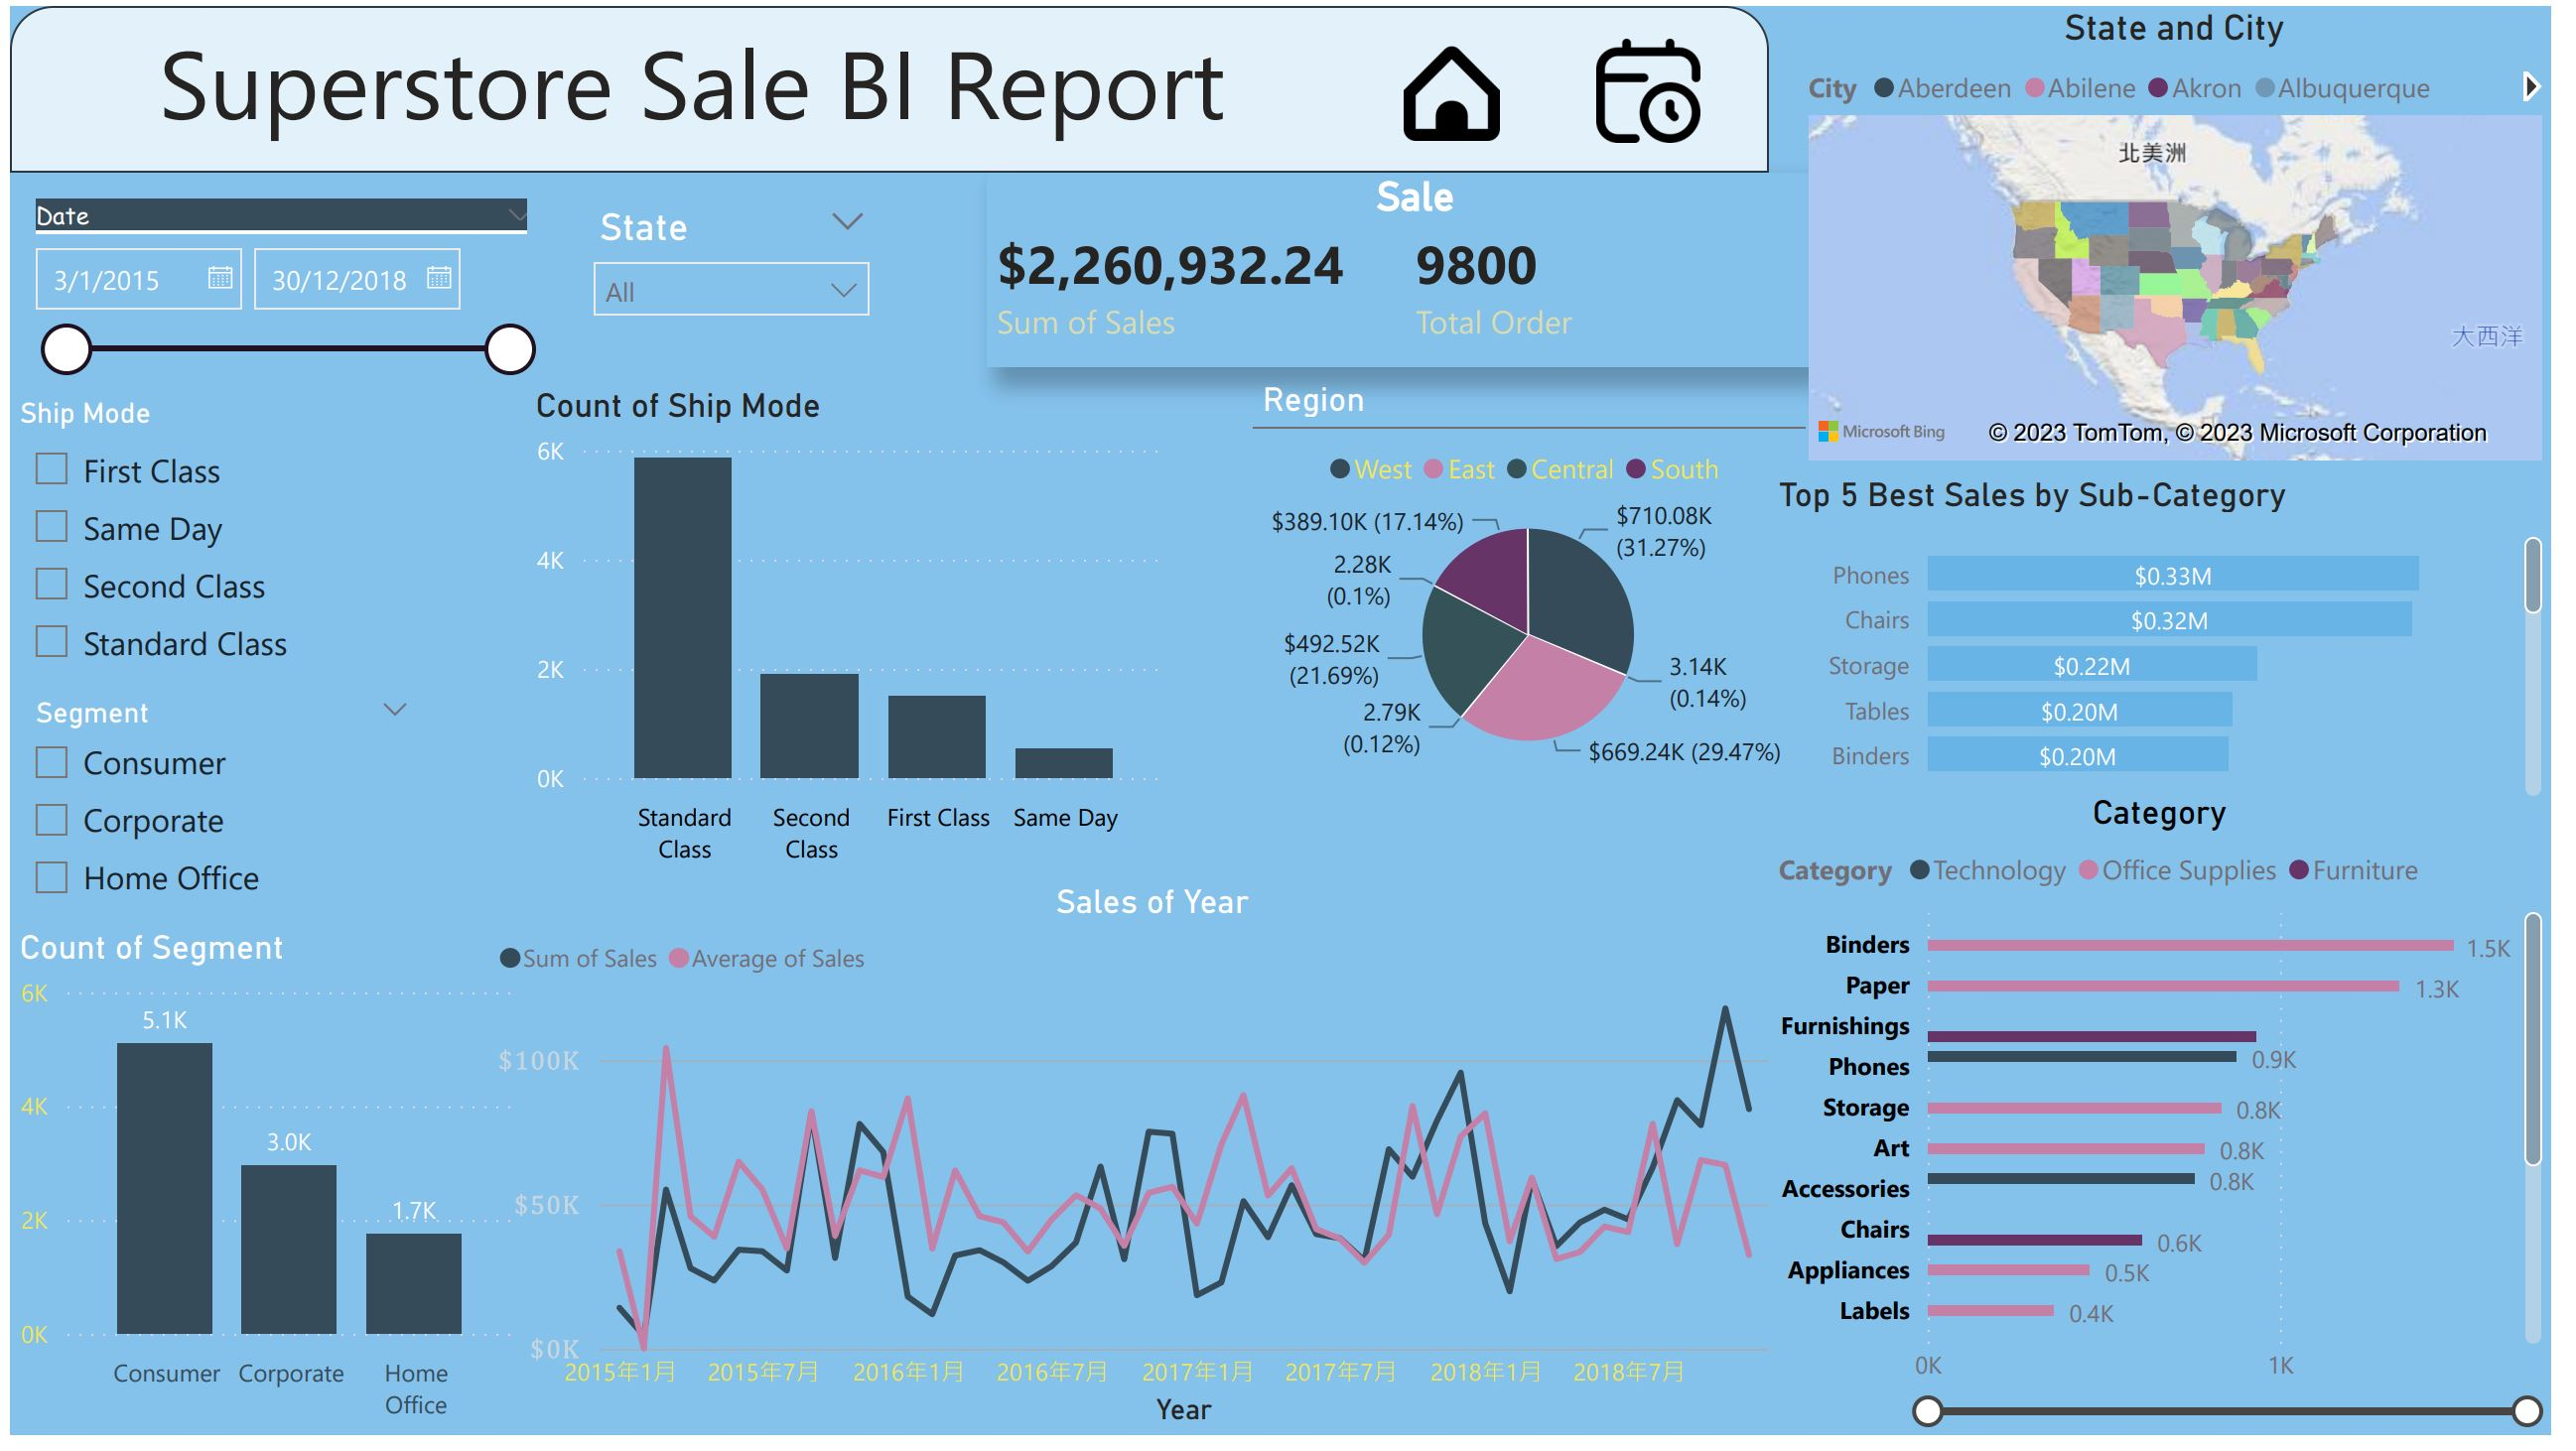

The page's visual inventory and layout, read from the dashboard file:
{"tool":"powerbi","page":{"name":"Sale","canvas":[1280,720],"ordinal":0},"visuals":[{"type":"multiRowCard","title":"Sale","fields":{"Values":["Sum(superstore_final_dataset.Sales)","CountNonNull(superstore_final_dataset.Sales)","Avg(superstore_final_dataset.Sales)"]},"box":[260,92.1,684.3,88.6],"z":1000},{"type":"image","box":[640,0,125.9,83.9],"z":2000},{"type":"slicer","title":"Year","fields":{"Values":["superstore_final_dataset.Order_Date"]},"box":[0,92.1,234.3,111.9],"z":3000},{"type":"slicer","title":"Ship Mode","fields":{"Values":["superstore_final_dataset.Ship_Mode"]},"box":[0,197,234.3,145.7],"z":4000},{"type":"slicer","title":"Segment","fields":{"Values":["superstore_final_dataset.Segment"]},"box":[0,342.7,213.3,121.2],"z":5000},{"type":"lineChart","title":"Sales of Year ","fields":{"Category":["superstore_final_dataset.Order_Date.Variation.Date Hierarchy.Year","superstore_final_dataset.Order_Date.Variation.Date Hierarchy.Month"],"Y":["Sum(superstore_final_dataset.Sales)"],"Y2":["Avg(superstore_final_dataset.Sales)"]},"box":[241.2,441.2,668.8,278.8],"z":6000},{"type":"columnChart","title":"Count of Ship Mode ","fields":{"Category":["superstore_final_dataset.Ship_Mode"],"Y":["CountNonNull(superstore_final_dataset.Ship_Mode)"]},"box":[260,180,327.5,248.8],"z":8000},{"type":"columnChart","title":"Count of Segment ","fields":{"Category":["superstore_final_dataset.Segment"],"Y":["CountNonNull(superstore_final_dataset.Segment)"]},"box":[0,464,260,256.5],"z":9000},{"type":"clusteredBarChart","title":" Category","fields":{"Category":["superstore_final_dataset.Sub_Category"],"Series":["superstore_final_dataset.Category"],"Y":["CountNonNull(superstore_final_dataset.Category)"]},"box":[886.2,396.2,393.8,323],"z":10000},{"type":"clusteredBarChart","title":"Top 5 Best Sales by Sub-Category","fields":{"Category":["superstore_final_dataset.Sub_Category"],"Y":["Sum(superstore_final_dataset.Sales)"]},"box":[886.2,236.2,393.8,166.2],"z":11000},{"type":"image","title":"Sale","box":[1178.8,318.8,82.5,82.5],"z":12000},{"type":"filledMap","fields":{"Category":["superstore_final_dataset.State"],"Series":["superstore_final_dataset.City"]},"box":[901.2,0,378.8,233.8],"z":13000},{"type":"pieChart","title":" Region","fields":{"Category":["superstore_final_dataset.Region"],"Y":["Sum(superstore_final_dataset.Sales)","CountNonNull(superstore_final_dataset.Region)"]},"box":[626.2,187.5,277.5,202.5],"z":14000},{"type":"slicer","fields":{"Values":["superstore_final_dataset.State"]},"box":[751.2,0,158.8,76.2],"z":15000},{"type":"textbox","title":" Superstore Sale Report","box":[5.8,0,620.2,92.1],"z":15001}]}

Visuals, with their boxes in screenshot pixels (x1, y1, x2, y2), scaled from the page's 1280x720 canvas onto the 2576x1451 screenshot:
"Sale" multiRowCard: Rect(523, 186, 1900, 364)
image: Rect(1288, 0, 1542, 169)
"Year" slicer: Rect(0, 186, 472, 411)
"Ship Mode" slicer: Rect(0, 397, 472, 691)
"Segment" slicer: Rect(0, 691, 429, 935)
"Sales of Year " lineChart: Rect(485, 889, 1831, 1450)
"Count of Ship Mode " columnChart: Rect(523, 363, 1182, 864)
"Count of Segment " columnChart: Rect(0, 935, 523, 1450)
" Category" clusteredBarChart: Rect(1784, 799, 2575, 1449)
"Top 5 Best Sales by Sub-Category" clusteredBarChart: Rect(1784, 476, 2575, 811)
"Sale" image: Rect(2373, 642, 2538, 809)
filledMap - superstore_final_dataset.State x superstore_final_dataset.City: Rect(1814, 0, 2575, 471)
" Region" pieChart: Rect(1261, 378, 1819, 786)
slicer - superstore_final_dataset.State: Rect(1512, 0, 1831, 154)
" Superstore Sale Report" textbox: Rect(12, 0, 1260, 186)
